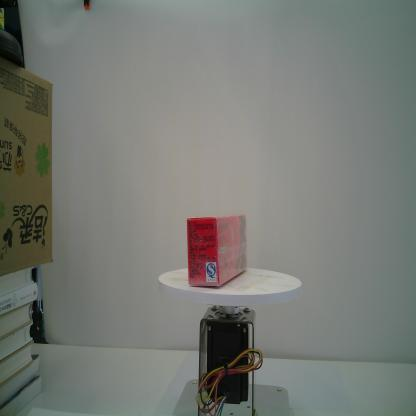Instant Drink: (186, 213, 249, 288)
